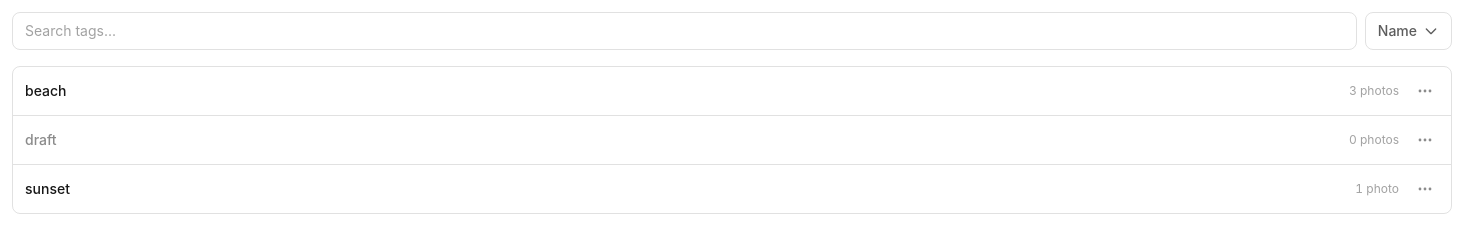
it: TagList › filters the list by name
Check: the link "beach" is shown, box [25,82,66,99]
Type "sun" into the field with placeholder "Search tags..." at x=684, y=31, box [12,12,1357,50]
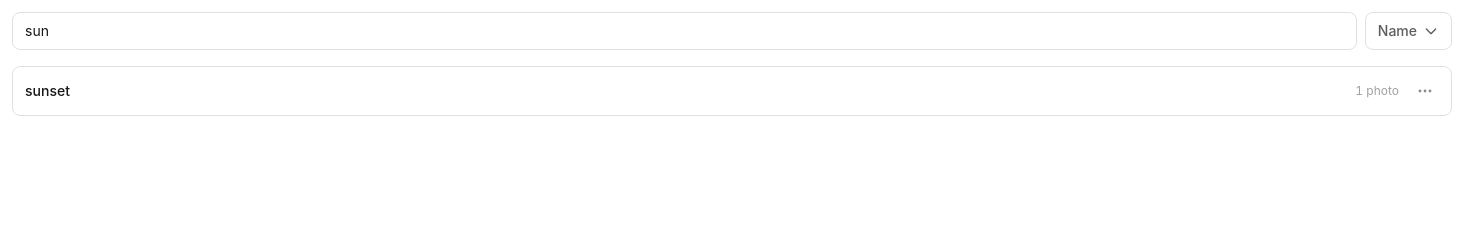
Check: the link "sunset" is shown, box [25,82,70,99]
Check: the link "beach" is gone
Check: the text "draft" is gone
